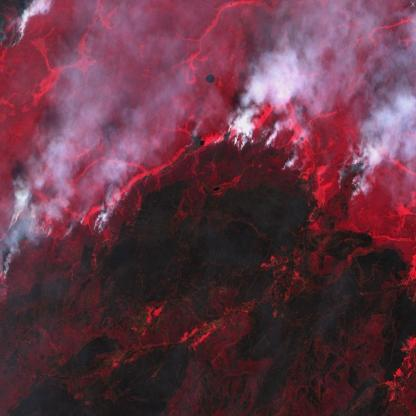fire: (179, 113, 368, 222), (0, 203, 116, 299), (0, 0, 32, 52)
